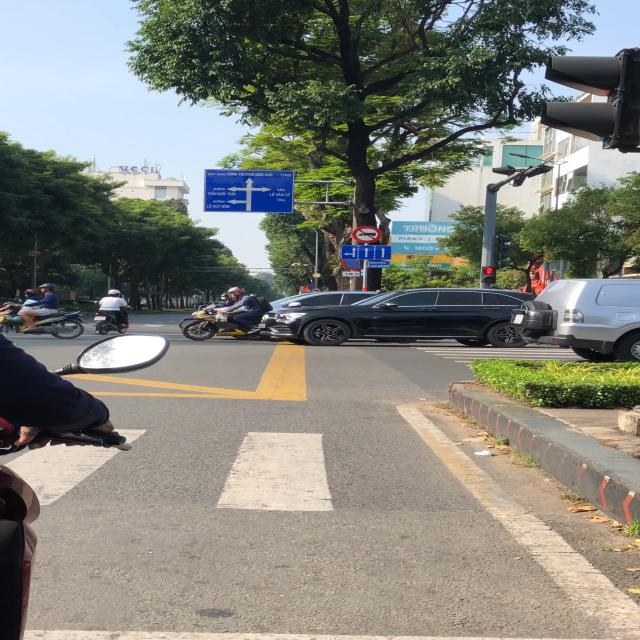Bien bao cam xe so-mi ro-mooc: (350, 225, 388, 243)
